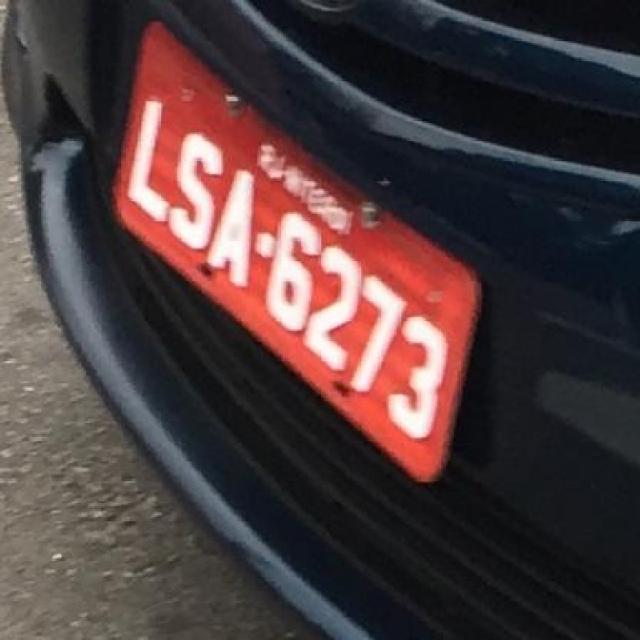old_plate: (102, 11, 487, 492)
